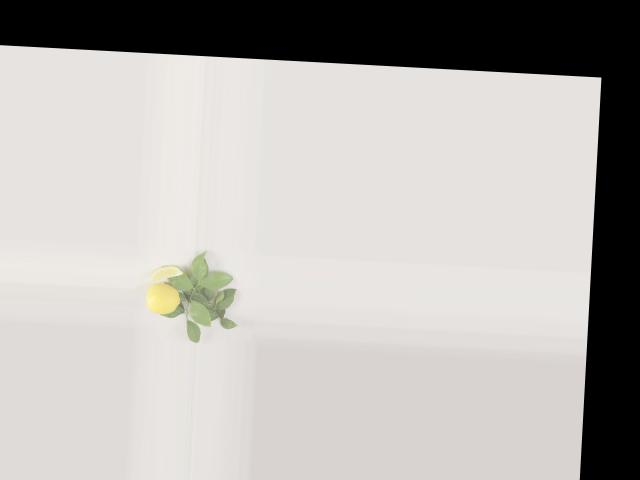lemon: (145, 285, 184, 316)
